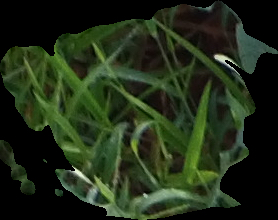grass: (1, 1, 277, 219)
